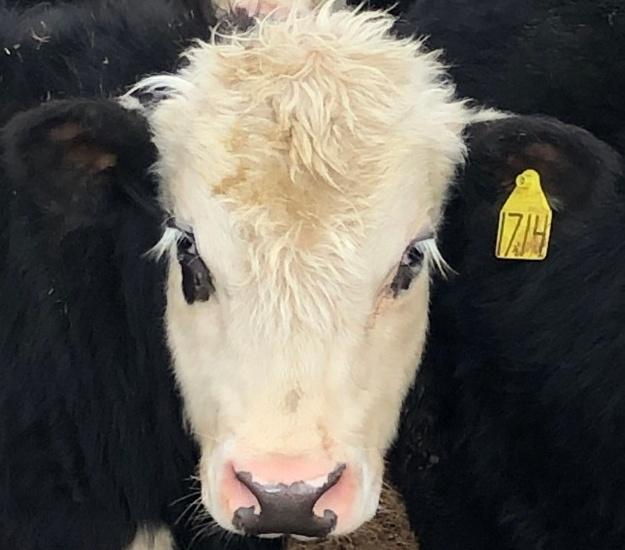muzzles: (191, 439, 393, 550)
